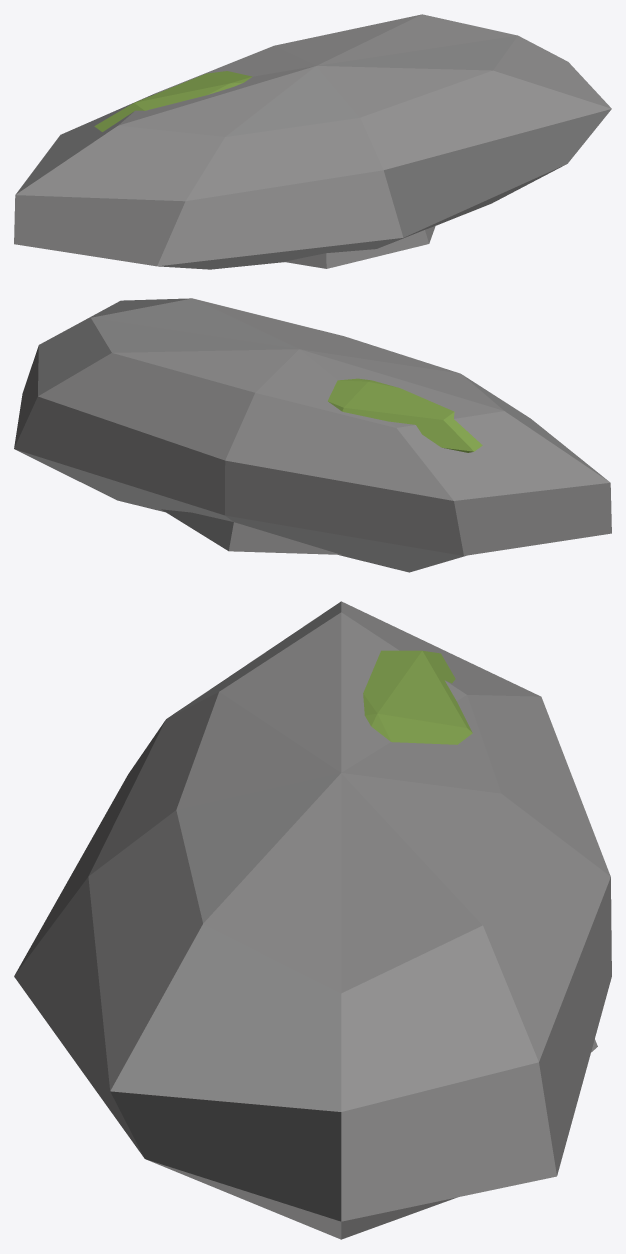
The model's file is stone_flat.glb.
3 views of the same model, one above another, from view 1: azimuth 30°, elevation 25°; view 2: azimuth 150°, elevation 25°; view 3: azimuth 270°, elevation 25° (orthographic). The views are drawn at different scales.
Parts seen in each view (by area): view 1: Stone; view 2: Stone; view 3: Stone.
Boxes of the visible parts, x1,y1,x2,y2 form: Stone: (14,14,611,269); Stone: (14,298,611,572); Stone: (14,601,611,1239).
Bounding box in the file's own units: 20.49 × 5.6 × 9.9.
